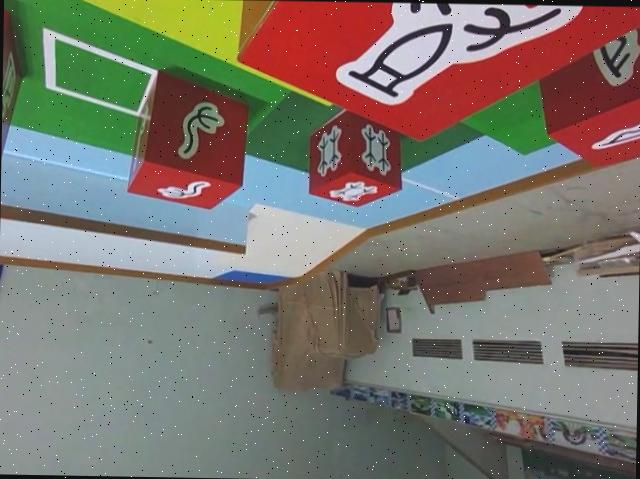R2 Real: (229, 0, 640, 148), (537, 3, 640, 170), (129, 75, 251, 214), (307, 104, 408, 210)
